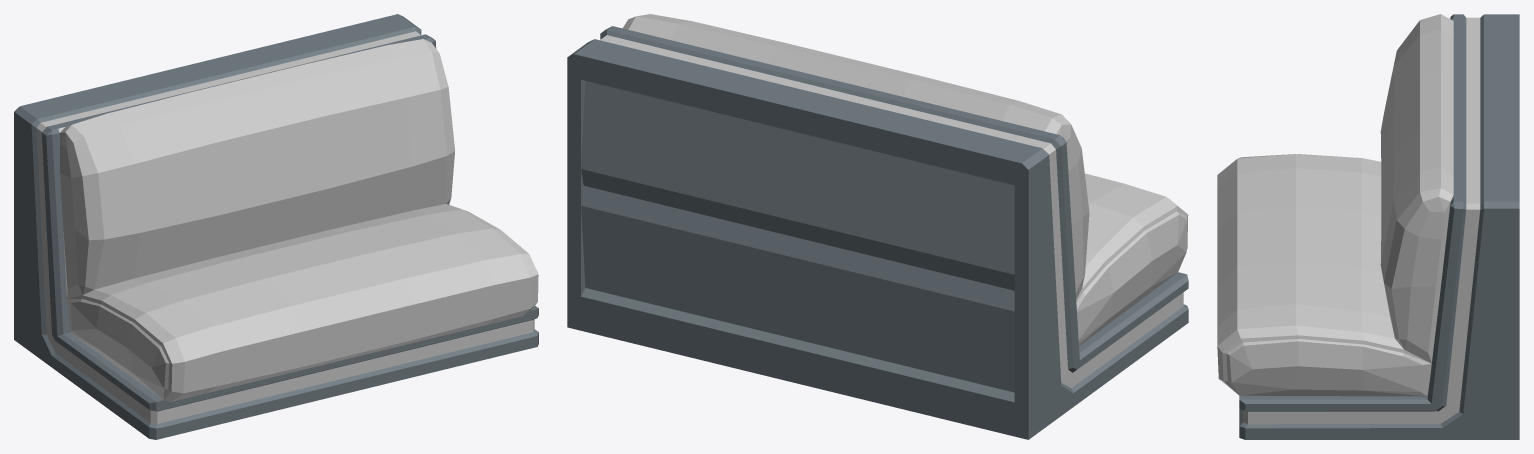
Rendered from SM_Prop_Sofa_02.fbx.
3 views of the same model, side by side, from view 1: azimuth 30°, elevation 25°; view 2: azimuth 150°, elevation 25°; view 3: azimuth 270°, elevation 25° (orthographic). The views are drawn at different scales.
Visible parts, largest first — view 1: SM_Prop_Sofa_02; view 2: SM_Prop_Sofa_02; view 3: SM_Prop_Sofa_02.
Boxes of the visible parts, x1,y1,x2,y2 form: SM_Prop_Sofa_02: (14,14,538,439); SM_Prop_Sofa_02: (567,14,1188,439); SM_Prop_Sofa_02: (1217,14,1519,439).
Size of the model in its own units: 188 by 111 by 124.
